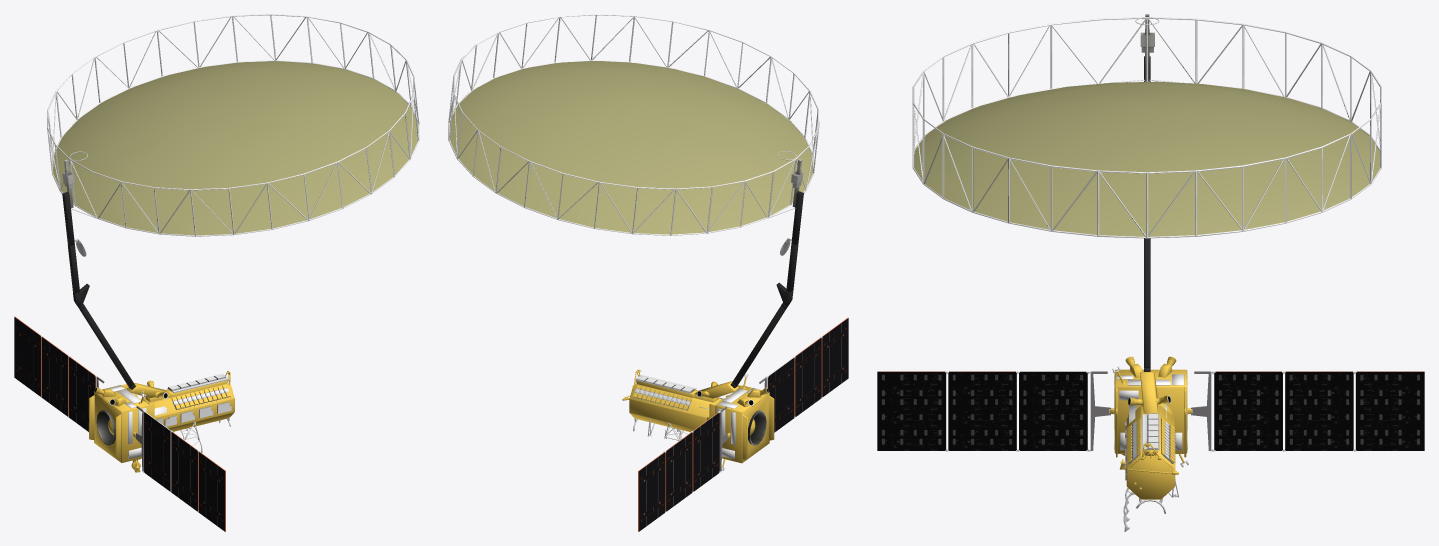
File: Nisar.glb
3 renders of one model, left to right at view 1: azimuth 30°, elevation 25°; view 2: azimuth 150°, elevation 25°; view 3: azimuth 270°, elevation 25°, orthographic. The views are drawn at different scales.
Visible parts, largest first — view 1: antenna_mesh_top, antenna_railing, BUS, BUS_instruments, Arm, Left_panel_1, Right_panel_2, Left_panel_3, Left_panel_2, Right_panel_3, Right_panel_1, BUS.009; view 2: antenna_mesh_top, antenna_railing, BUS, Arm, Right_panel_2, Right_panel_1, Right_panel_3, Left_panel_2, Left_panel_3, BUS_instruments, Left_panel_1, BUS.009; view 3: antenna_mesh_top, antenna_railing, BUS, Left_panel_3, Right_panel_3, Left_panel_2, Right_panel_2, Left_panel_1, Right_panel_1, BUS_instruments, Arm, BUS.009.
Part boxes in pixels (x1=…): antenna_mesh_top: x1=53, y1=61, x2=418, y2=235; antenna_railing: x1=47, y1=14, x2=419, y2=236; BUS: x1=89, y1=370, x2=234, y2=472; BUS_instruments: x1=96, y1=374, x2=231, y2=445; Arm: x1=62, y1=192, x2=169, y2=397; Left_panel_1: x1=143, y1=411, x2=172, y2=491; Right_panel_2: x1=41, y1=336, x2=69, y2=416; Left_panel_3: x1=198, y1=451, x2=225, y2=531; Left_panel_2: x1=171, y1=431, x2=199, y2=511; Right_panel_3: x1=14, y1=316, x2=41, y2=396; Right_panel_1: x1=68, y1=356, x2=96, y2=431; BUS.009: x1=106, y1=385, x2=146, y2=458; antenna_mesh_top: x1=449, y1=61, x2=812, y2=234; antenna_railing: x1=448, y1=14, x2=819, y2=235; BUS: x1=622, y1=369, x2=774, y2=470; Arm: x1=694, y1=191, x2=803, y2=398; Right_panel_2: x1=663, y1=431, x2=692, y2=511; Right_panel_1: x1=691, y1=411, x2=719, y2=491; Right_panel_3: x1=638, y1=451, x2=665, y2=531; Left_panel_2: x1=794, y1=336, x2=821, y2=417; Left_panel_3: x1=821, y1=317, x2=848, y2=397; BUS_instruments: x1=633, y1=375, x2=766, y2=445; Left_panel_1: x1=767, y1=356, x2=794, y2=432; BUS.009: x1=717, y1=388, x2=758, y2=459; antenna_mesh_top: x1=914, y1=81, x2=1380, y2=236; antenna_railing: x1=912, y1=17, x2=1381, y2=238; BUS: x1=1110, y1=366, x2=1191, y2=531; Left_panel_3: x1=877, y1=371, x2=947, y2=451; Right_panel_3: x1=1354, y1=371, x2=1424, y2=451; Left_panel_2: x1=946, y1=371, x2=1017, y2=451; Right_panel_2: x1=1284, y1=371, x2=1355, y2=451; Left_panel_1: x1=1017, y1=371, x2=1088, y2=451; Right_panel_1: x1=1213, y1=371, x2=1284, y2=451; BUS_instruments: x1=1125, y1=413, x2=1175, y2=480; Arm: x1=1140, y1=56, x2=1157, y2=413; BUS.009: x1=1114, y1=374, x2=1187, y2=450.
Size of the model in its own units: 13.04 by 13.96 by 14.29.
Materials: 15 (4 with a texture image).
